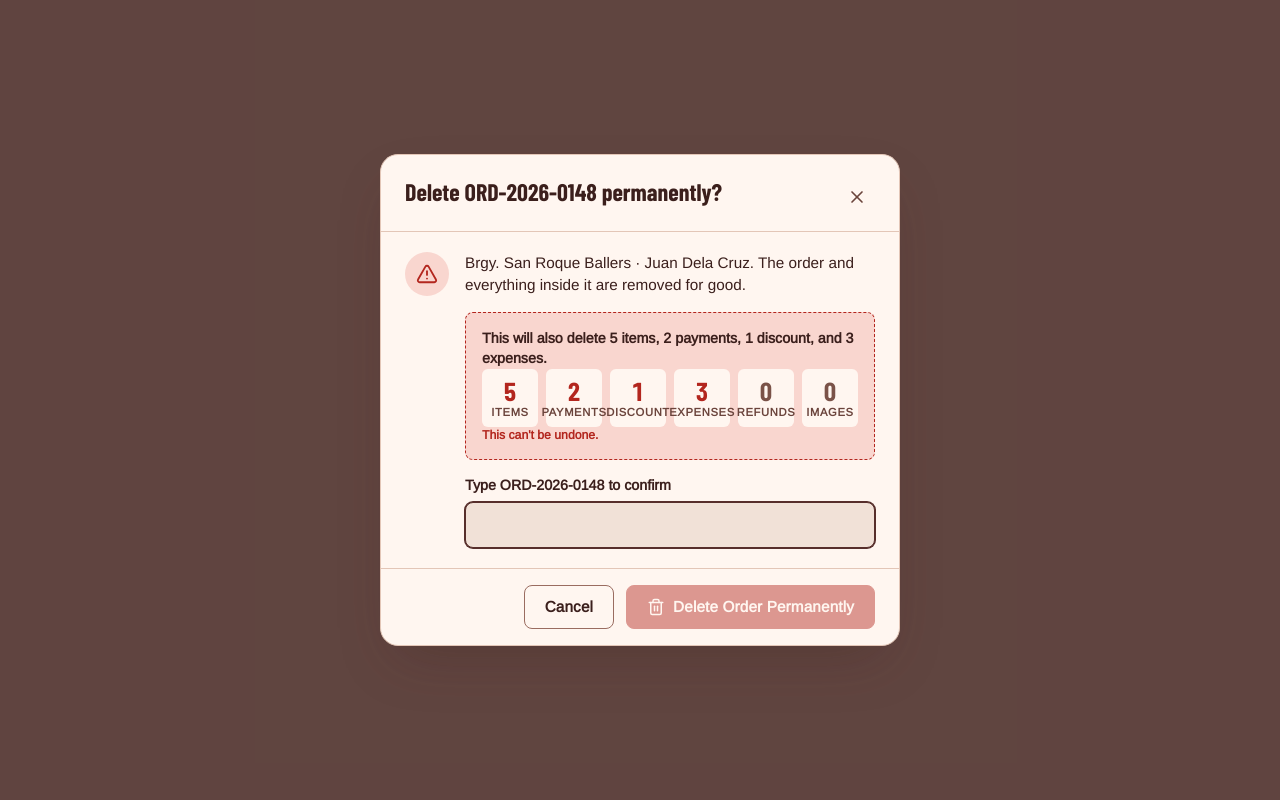
Test: deleting for good › shows the server line in the dialog on a 400 and keeps the dialog open with focus on the confirm button
Check: the button "This will also delete 5 items, 2 payments, 1 discount, and 3 expenses." is shown, box [482,329,858,369]
Type "ORD-2026-0148" into the field labelled "Type ORD-2026-0148 to confirm". click: (670, 525)
box: [466,503,874,547]
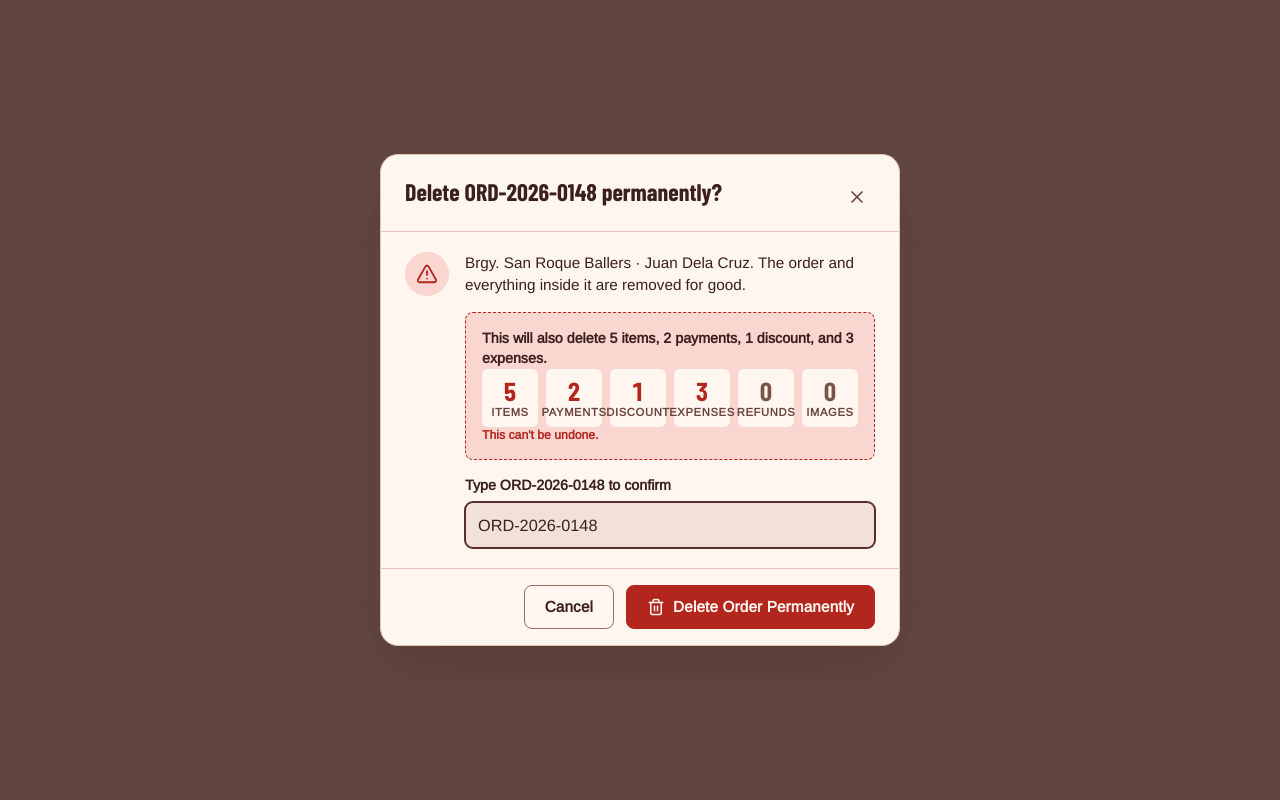
Click the button "Delete Order Permanently". click: (751, 607)
box: [626,585,875,629]
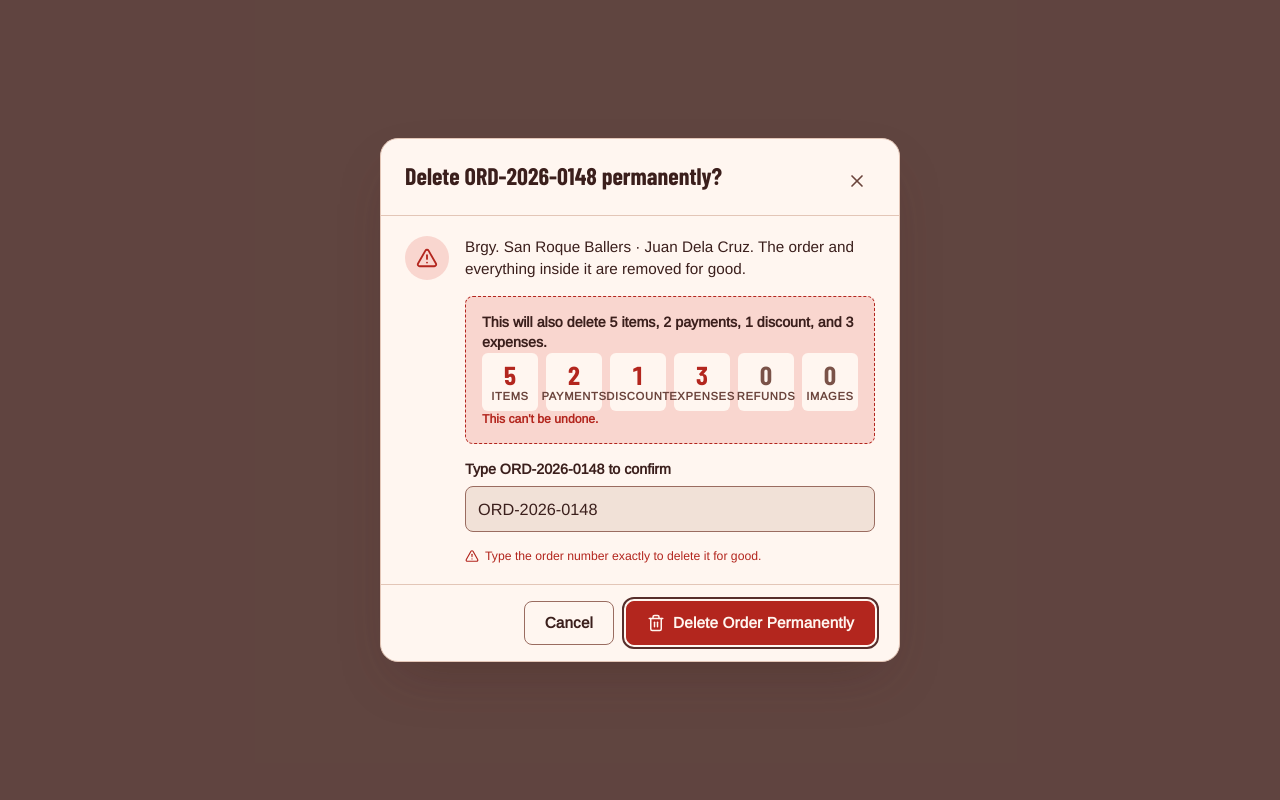
Check: the text "Type the order number exactly to delete it for good." is shown, box [465,549,761,563]
